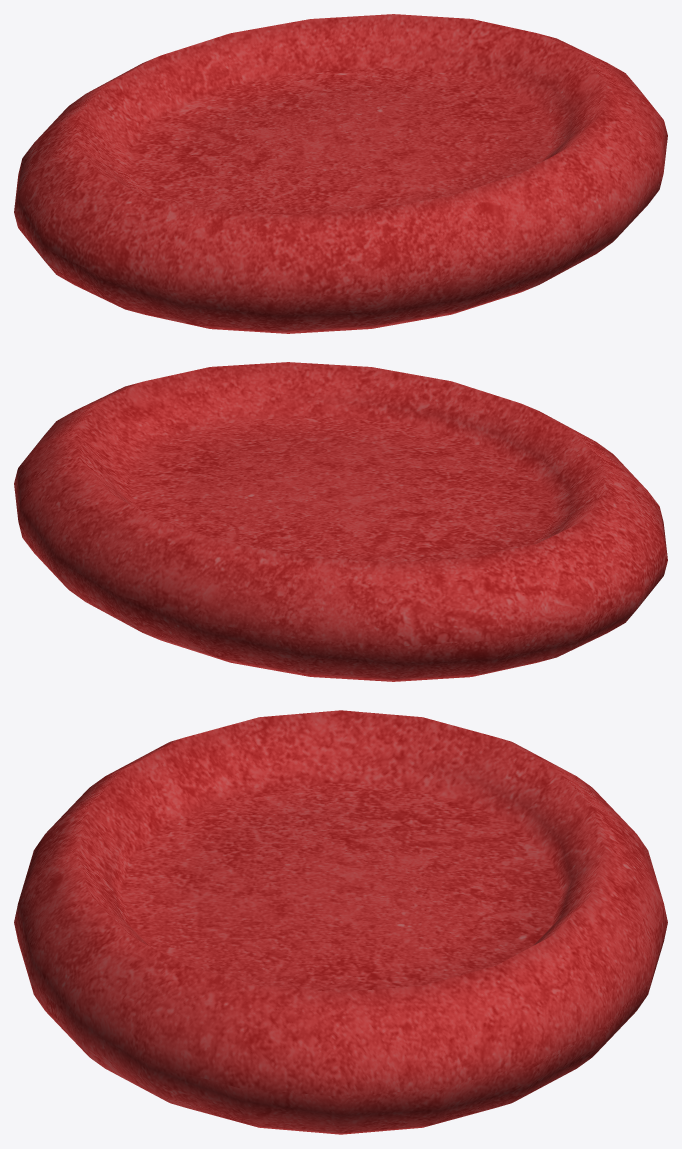
The model's file is RedBloodCell.fbx.
3 renders of one model, top to bottom at view 1: azimuth 30°, elevation 25°; view 2: azimuth 150°, elevation 25°; view 3: azimuth 270°, elevation 25°, orthographic. The views are drawn at different scales.
Parts seen in each view (by area): view 1: pSphere2; view 2: pSphere2; view 3: pSphere2.
Boxes of the visible parts, x1,y1,x2,y2 form: pSphere2: [14, 14, 667, 333]; pSphere2: [14, 362, 667, 681]; pSphere2: [14, 710, 667, 1134].
Size of the model in its own units: 6.2 by 1.18 by 4.91.
